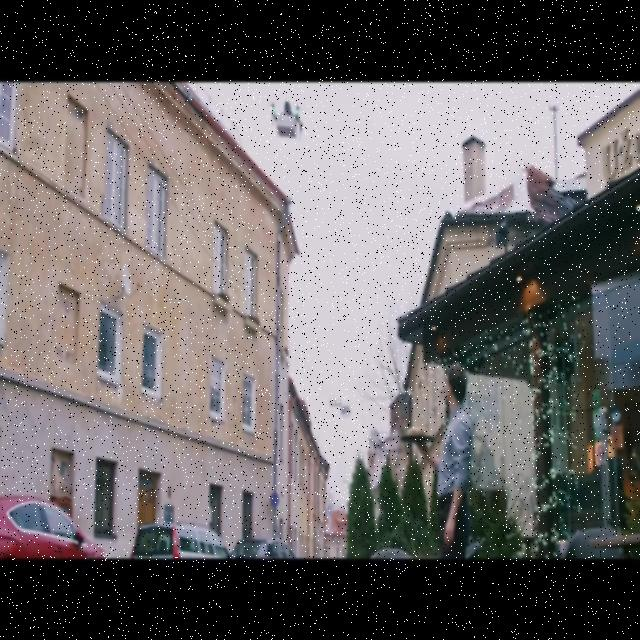UAV: (271, 100, 303, 136)
